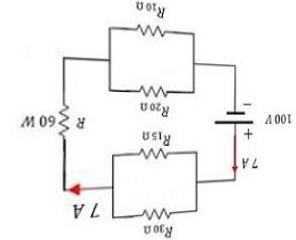Battery: (209, 89, 263, 147)
